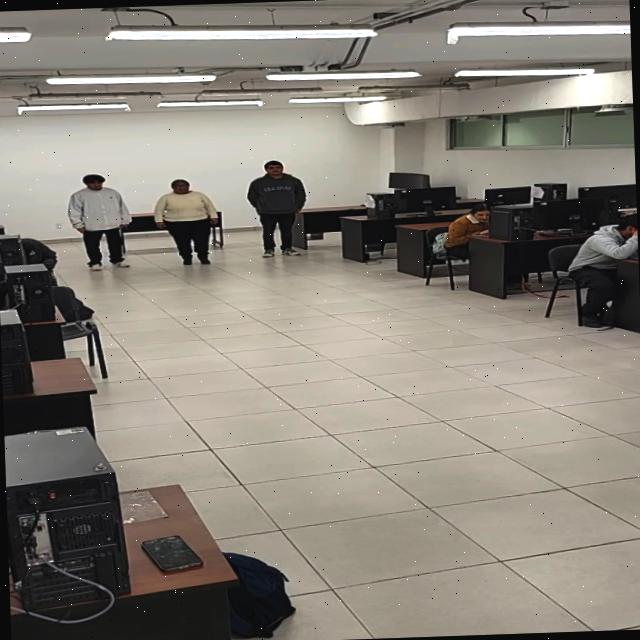Persona: (66, 172, 132, 271), (246, 158, 308, 258), (153, 177, 220, 266)
